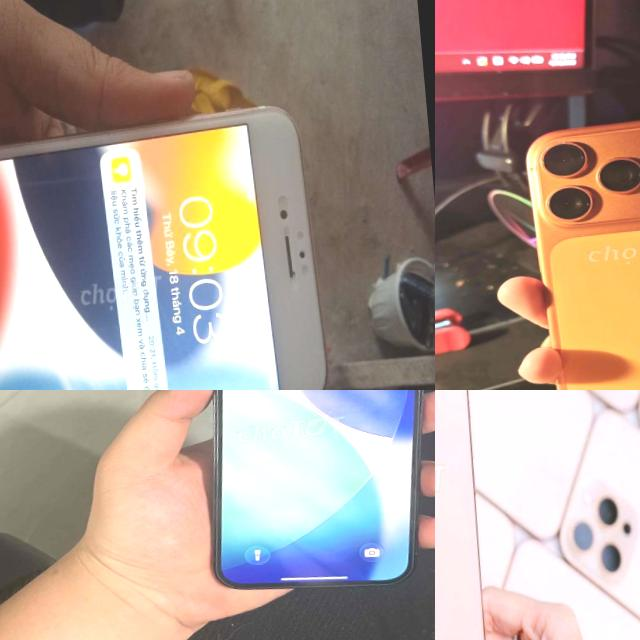gen_12_13: (195, 390, 435, 615)
gen_16: (435, 390, 500, 640)
gen_17: (505, 90, 640, 390)
gen_6: (0, 108, 325, 390)
